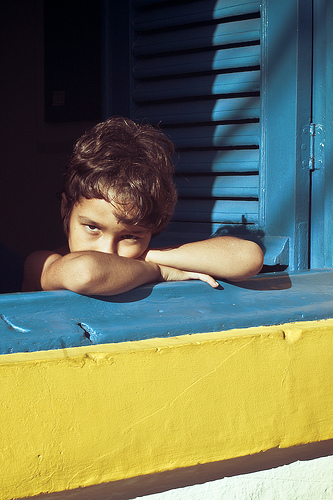without_mask: (63, 170, 154, 279)
